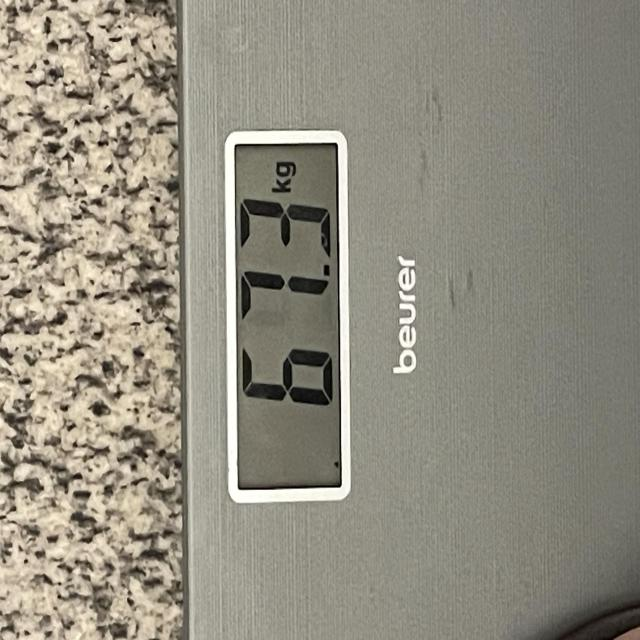ws: (171, 0, 640, 640)
